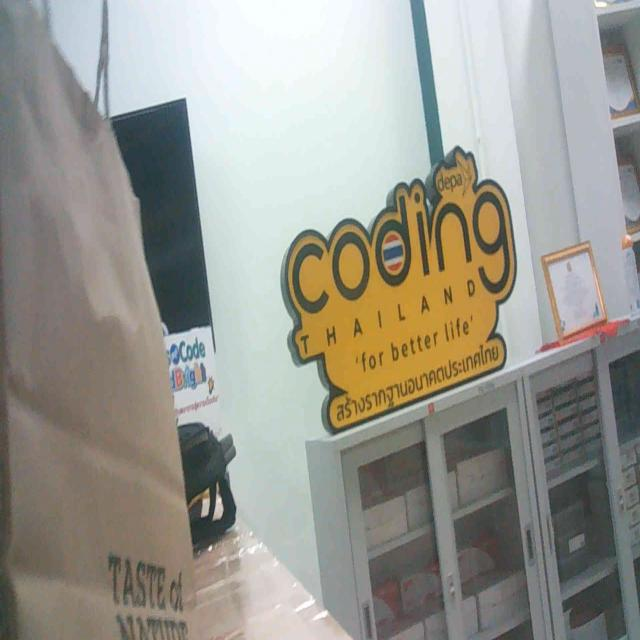bag: (0, 0, 201, 629)
